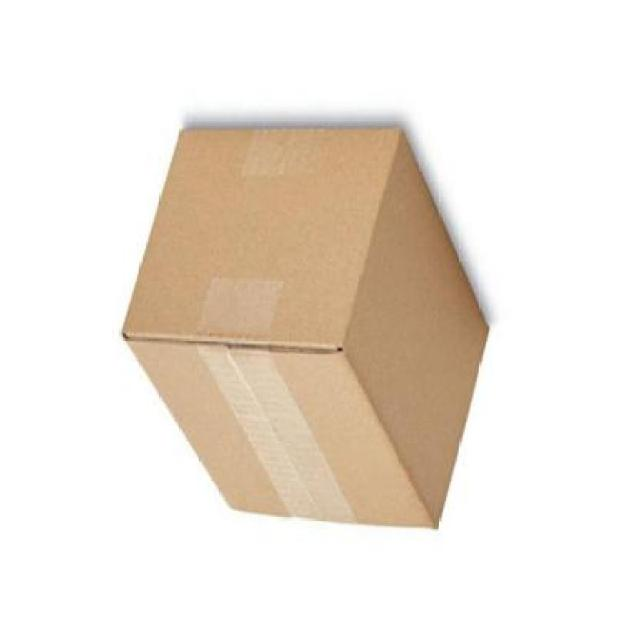cardboxes: (124, 122, 491, 527)
